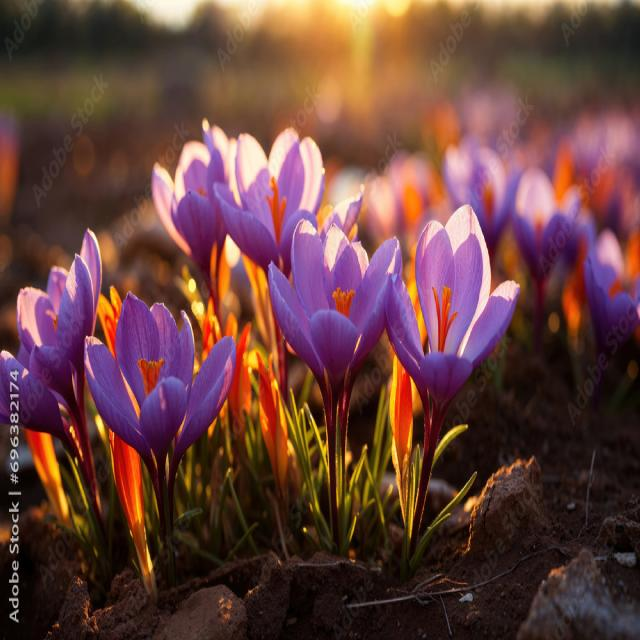saffron open: (385, 205, 519, 551), (85, 292, 235, 578), (0, 230, 104, 529), (215, 129, 325, 277), (584, 230, 640, 373)
